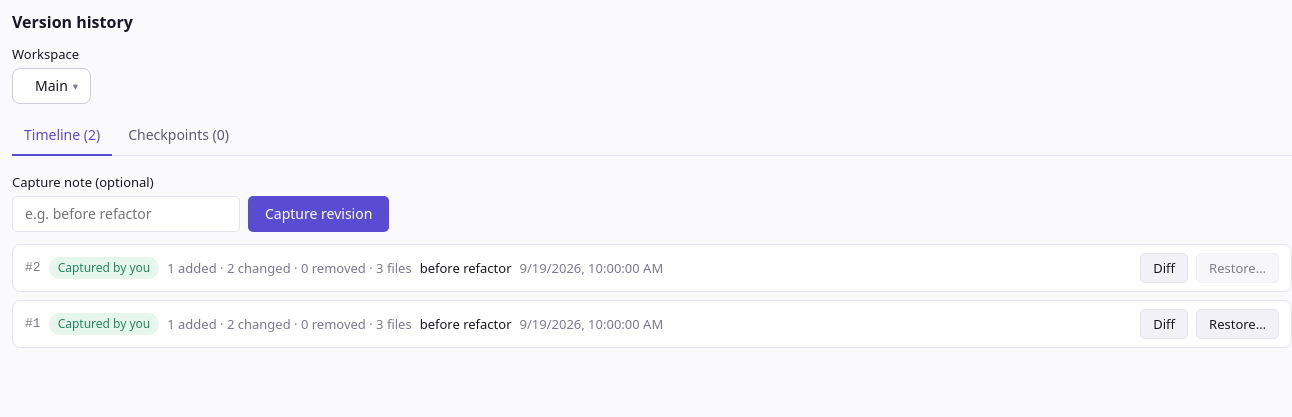
Test: VersionPanel › surfaces honest rollback failures from the server
This screenshot has width=1292, height=417.
Click the 2nd button "Restore…".
click(1238, 324)  # box [1196,309,1279,339]
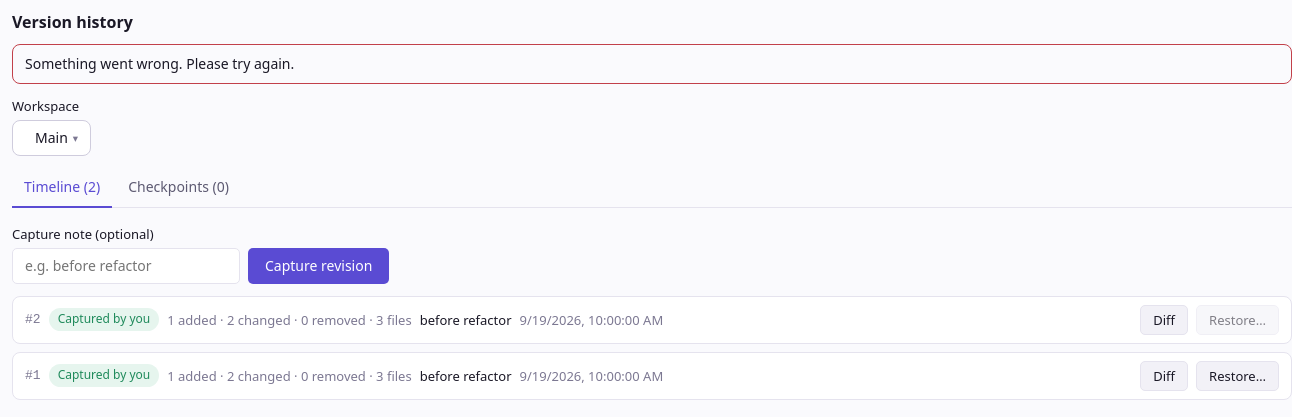
Check: the message "Something went wrong. Please try again." is shown, box [12,44,1291,84]
